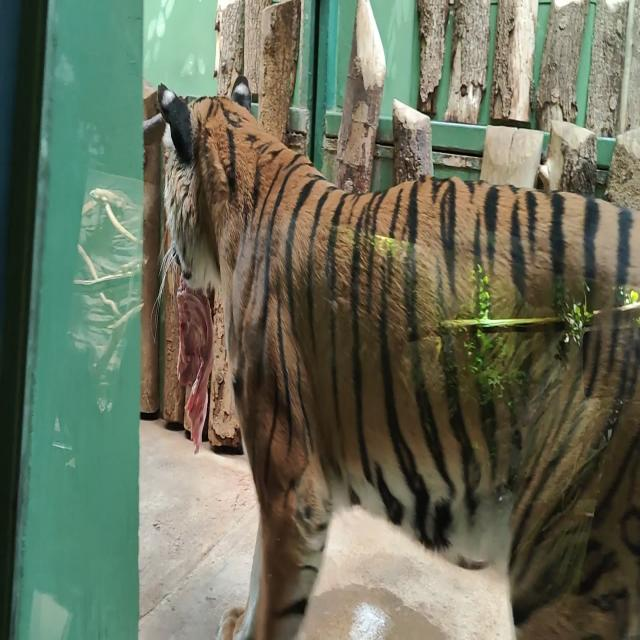tiger: (158, 73, 640, 640)
